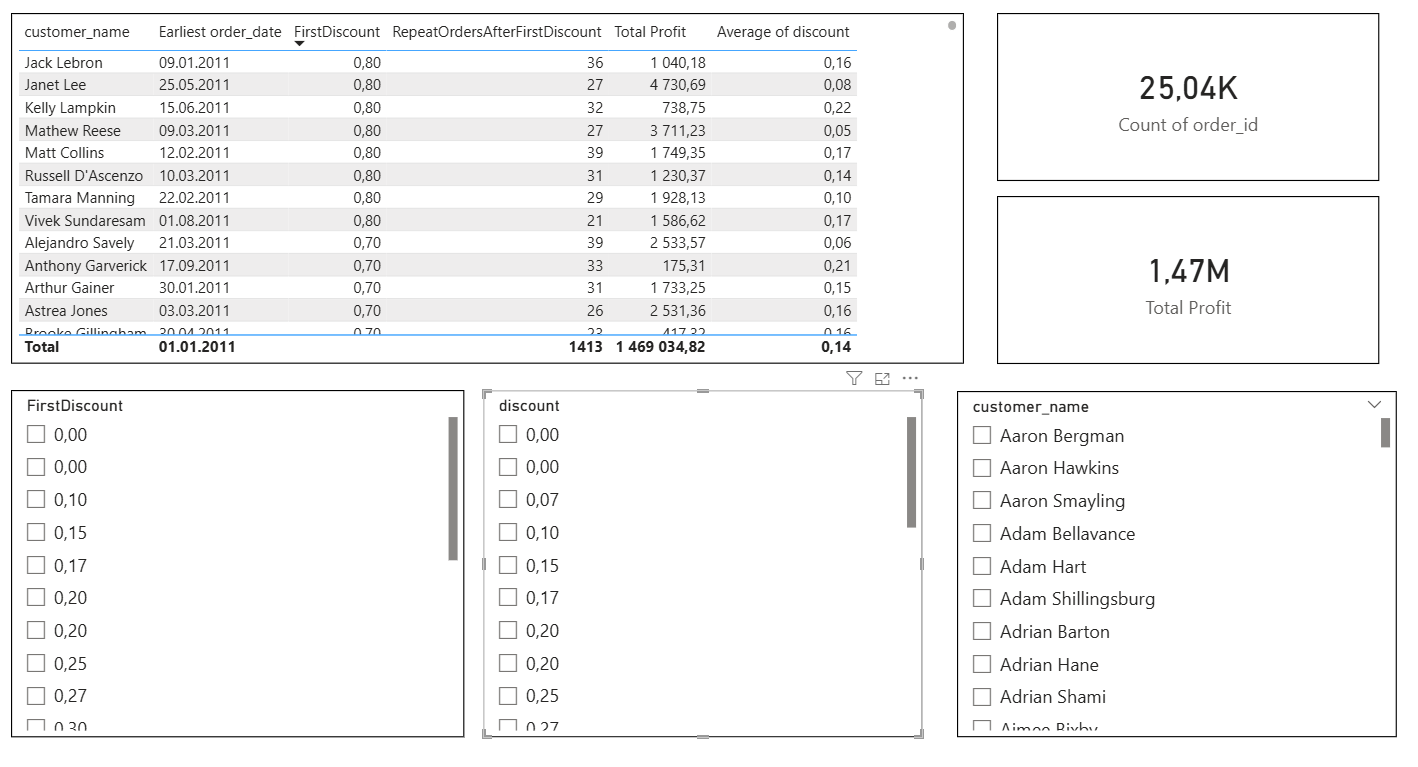

What the dashboard file says about the page in this screenshot:
{"tool":"powerbi","page":{"name":"Discount vs Repeat Orders","canvas":[1280,720],"ordinal":9},"visuals":[{"type":"slicer","fields":{"Values":["orders_view.discount"]},"box":[444.5,352.1,390,308.3],"z":0},{"type":"slicer","fields":{"Values":["orders_view.customer_name"]},"box":[864.7,353.1,390,307.4],"z":1000},{"type":"tableEx","fields":{"Values":["orders_view.customer_name","orders_view.order_date","FirstOrders.FirstDiscount","FirstOrders.RepeatOrdersAfterFirstDiscount","orders_view.Total Profit","Avg(orders_view.discount)"]},"box":[25.3,17.5,845.2,311.2],"z":2000},{"type":"slicer","fields":{"Values":["FirstOrders.FirstDiscount"]},"box":[25.3,352.1,401.7,308.3],"z":3000},{"type":"card","fields":{"Values":["Count(orders_view.order_id)"]},"box":[899.7,17.5,339.5,148.8],"z":4000},{"type":"card","fields":{"Values":["orders_view.Total Profit"]},"box":[899.7,179.9,339.5,148.8],"z":5000}]}

Visuals, with their boxes on the page's 1280x720 design canvas (x1, y1, x2, y2). These are canvas units, not pixel positions in the 1418x767 screenshot, which may show the page scaled, cropped or inside an application window:
slicer - orders_view.discount: (x1=444, y1=352, x2=834, y2=660)
slicer - orders_view.customer_name: (x1=865, y1=353, x2=1255, y2=660)
tableEx - orders_view.customer_name x orders_view.order_date: (x1=25, y1=18, x2=870, y2=329)
slicer - FirstOrders.FirstDiscount: (x1=25, y1=352, x2=427, y2=660)
card - Count(orders_view.order_id): (x1=900, y1=18, x2=1239, y2=166)
card - orders_view.Total Profit: (x1=900, y1=180, x2=1239, y2=329)
